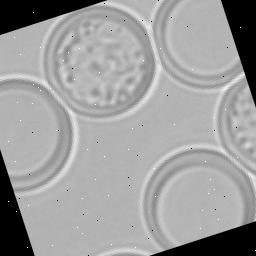picoshell: (41, 1, 163, 122), (141, 145, 256, 250), (0, 75, 79, 191), (152, 0, 245, 92), (215, 75, 256, 177), (97, 248, 154, 256)
